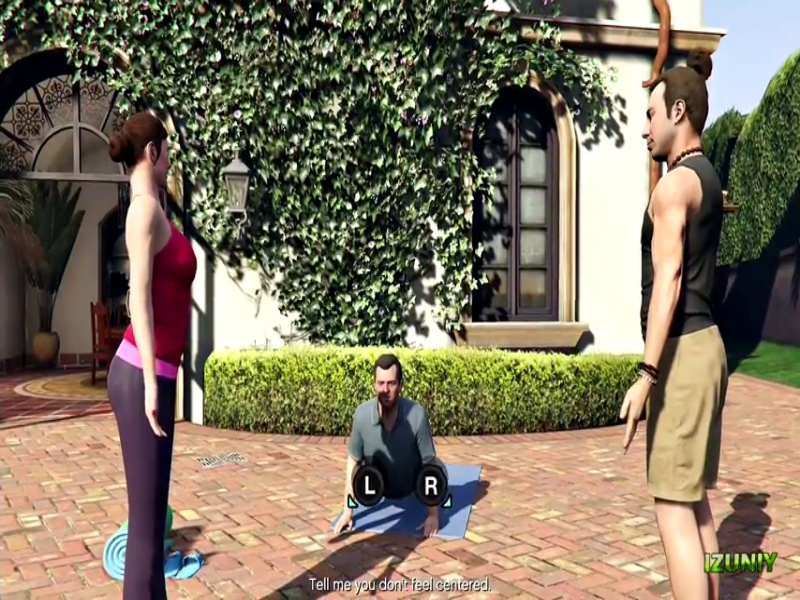human: (341, 358, 460, 543)
